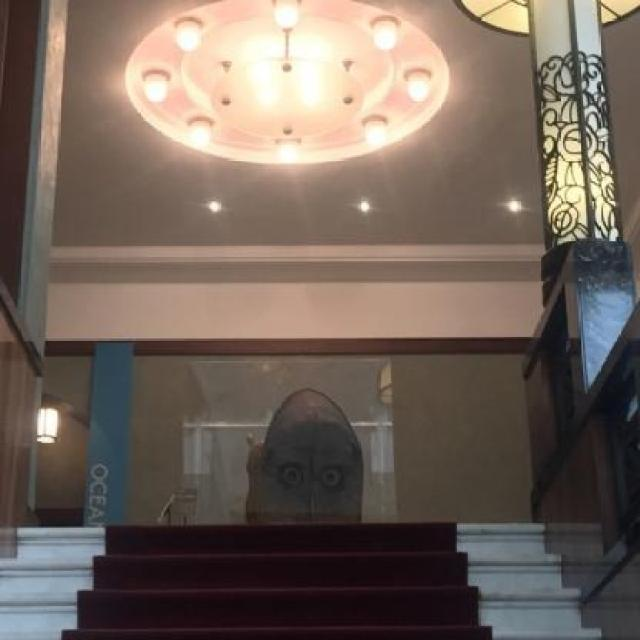stair: (0, 522, 605, 638)
